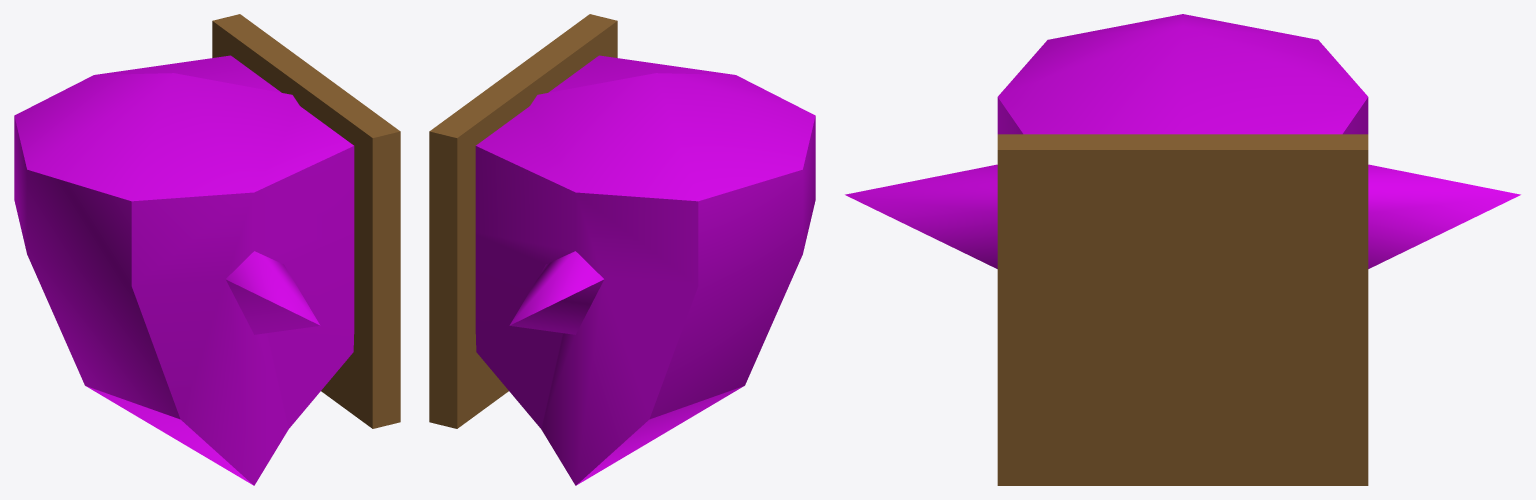
Rendered from Personnages.fbx.
The picture shows the model from 3 angles, left to right: view 1: azimuth 30°, elevation 25°; view 2: azimuth 150°, elevation 25°; view 3: azimuth 270°, elevation 25°; orthographic projection. The views are drawn at different scales.
Parts seen in each view (by area): view 1: polySurface2, pCube4; view 2: polySurface2, pCube4; view 3: pCube4, polySurface2.
Part boxes in pixels (bbox=[...]): polySurface2: bbox=[14, 55, 354, 485]; pCube4: bbox=[212, 14, 400, 428]; polySurface2: bbox=[475, 55, 815, 485]; pCube4: bbox=[429, 14, 617, 428]; pCube4: bbox=[997, 134, 1368, 485]; polySurface2: bbox=[845, 14, 1520, 268].
Size of the model in its own units: 1.06 by 1.22 by 1.83.
